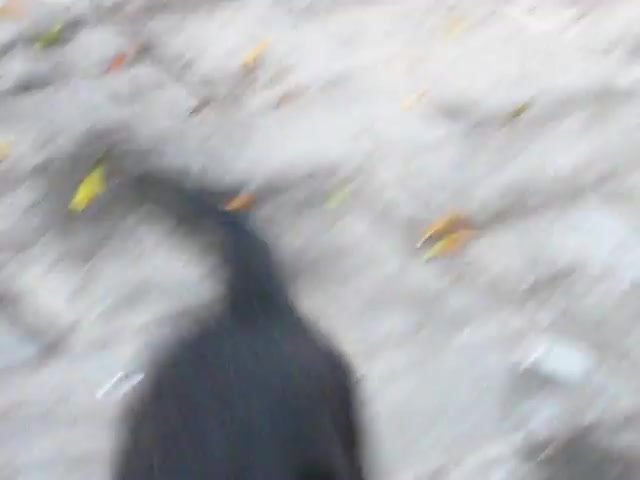dog: (90, 172, 367, 480)
